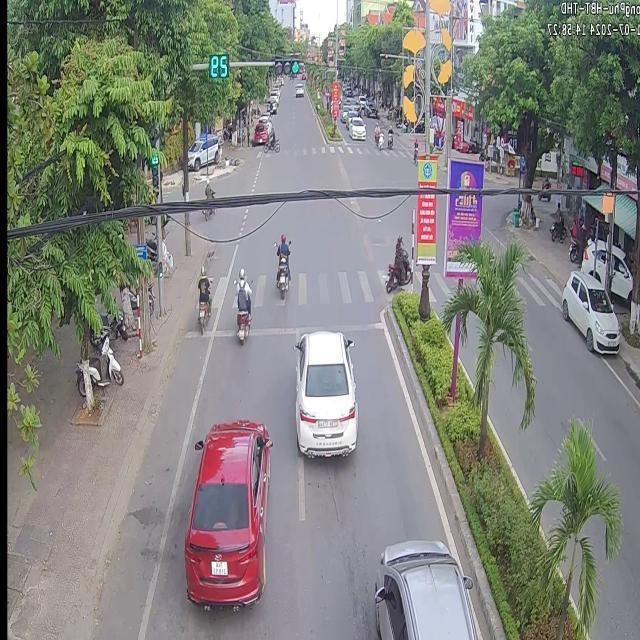car: (183, 418, 270, 605), (373, 538, 474, 638), (292, 329, 356, 456), (559, 269, 618, 351)
green_light: (208, 53, 228, 78), (272, 61, 301, 76), (150, 156, 159, 197)
motobike: (232, 280, 249, 340), (274, 234, 289, 297), (196, 265, 209, 331), (383, 262, 397, 291), (400, 247, 410, 282)
stop_line: (248, 320, 380, 335)
